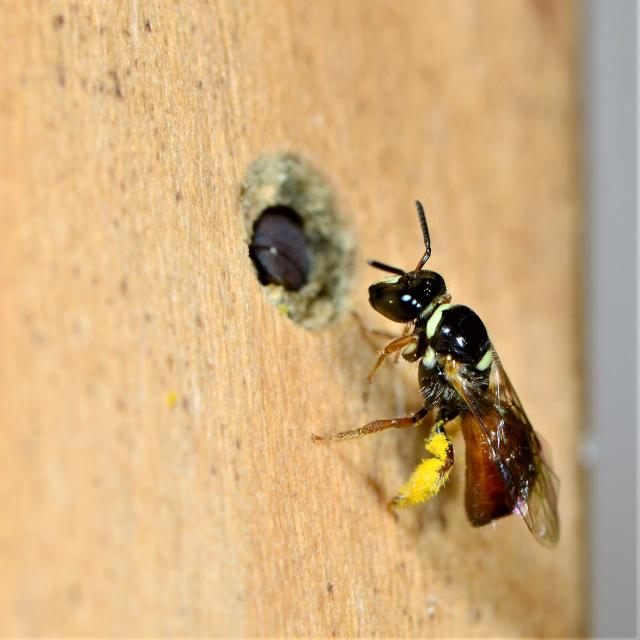Allodapula: (288, 180, 588, 552)
